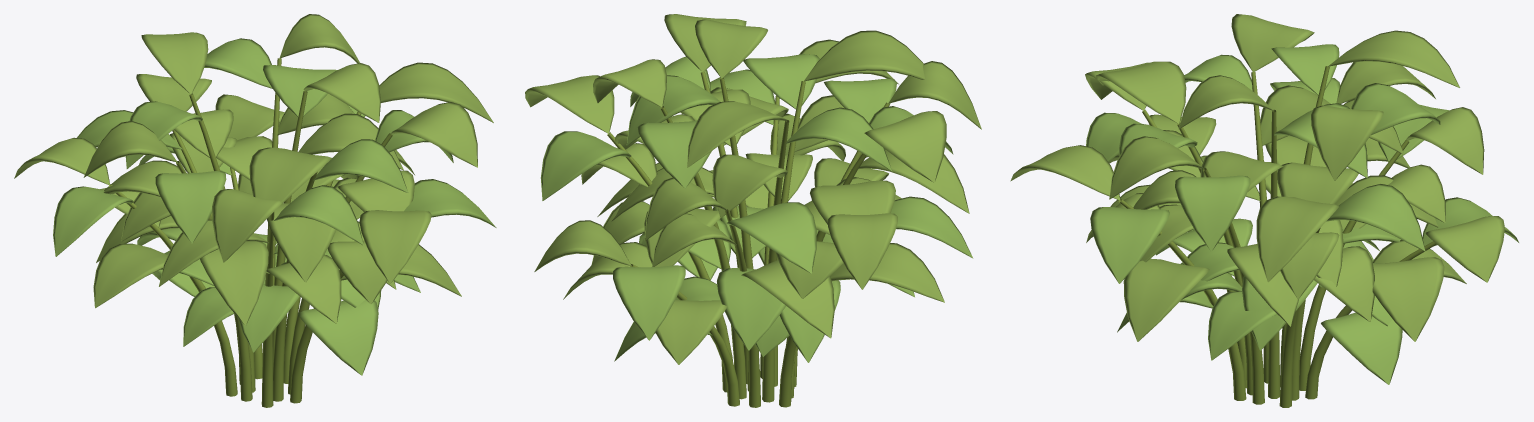
Rendered from painted_shrub.glb.
3 renders of one model, left to right at view 1: azimuth 30°, elevation 25°; view 2: azimuth 150°, elevation 25°; view 3: azimuth 270°, elevation 25°, orthographic. The views are drawn at different scales.
Parts seen in each view (by area): view 1: SM_Painted_Shrub; view 2: SM_Painted_Shrub; view 3: SM_Painted_Shrub.
Part boxes in pixels (x1=…): SM_Painted_Shrub: x1=14, y1=14, x2=496, y2=407; SM_Painted_Shrub: x1=525, y1=14, x2=981, y2=407; SM_Painted_Shrub: x1=1010, y1=14, x2=1518, y2=407.
Bounding box in the file's own units: 1.31 × 0.9334 × 1.3.
